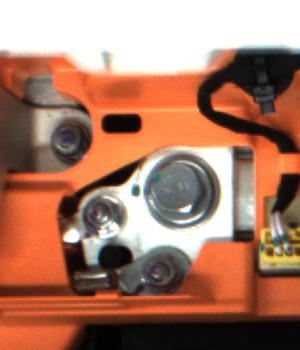nut_b: (140, 149, 225, 234)
